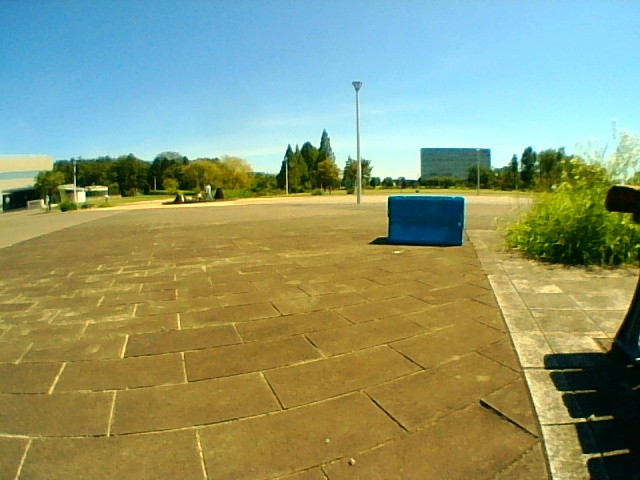blue_box: (388, 196, 462, 245)
